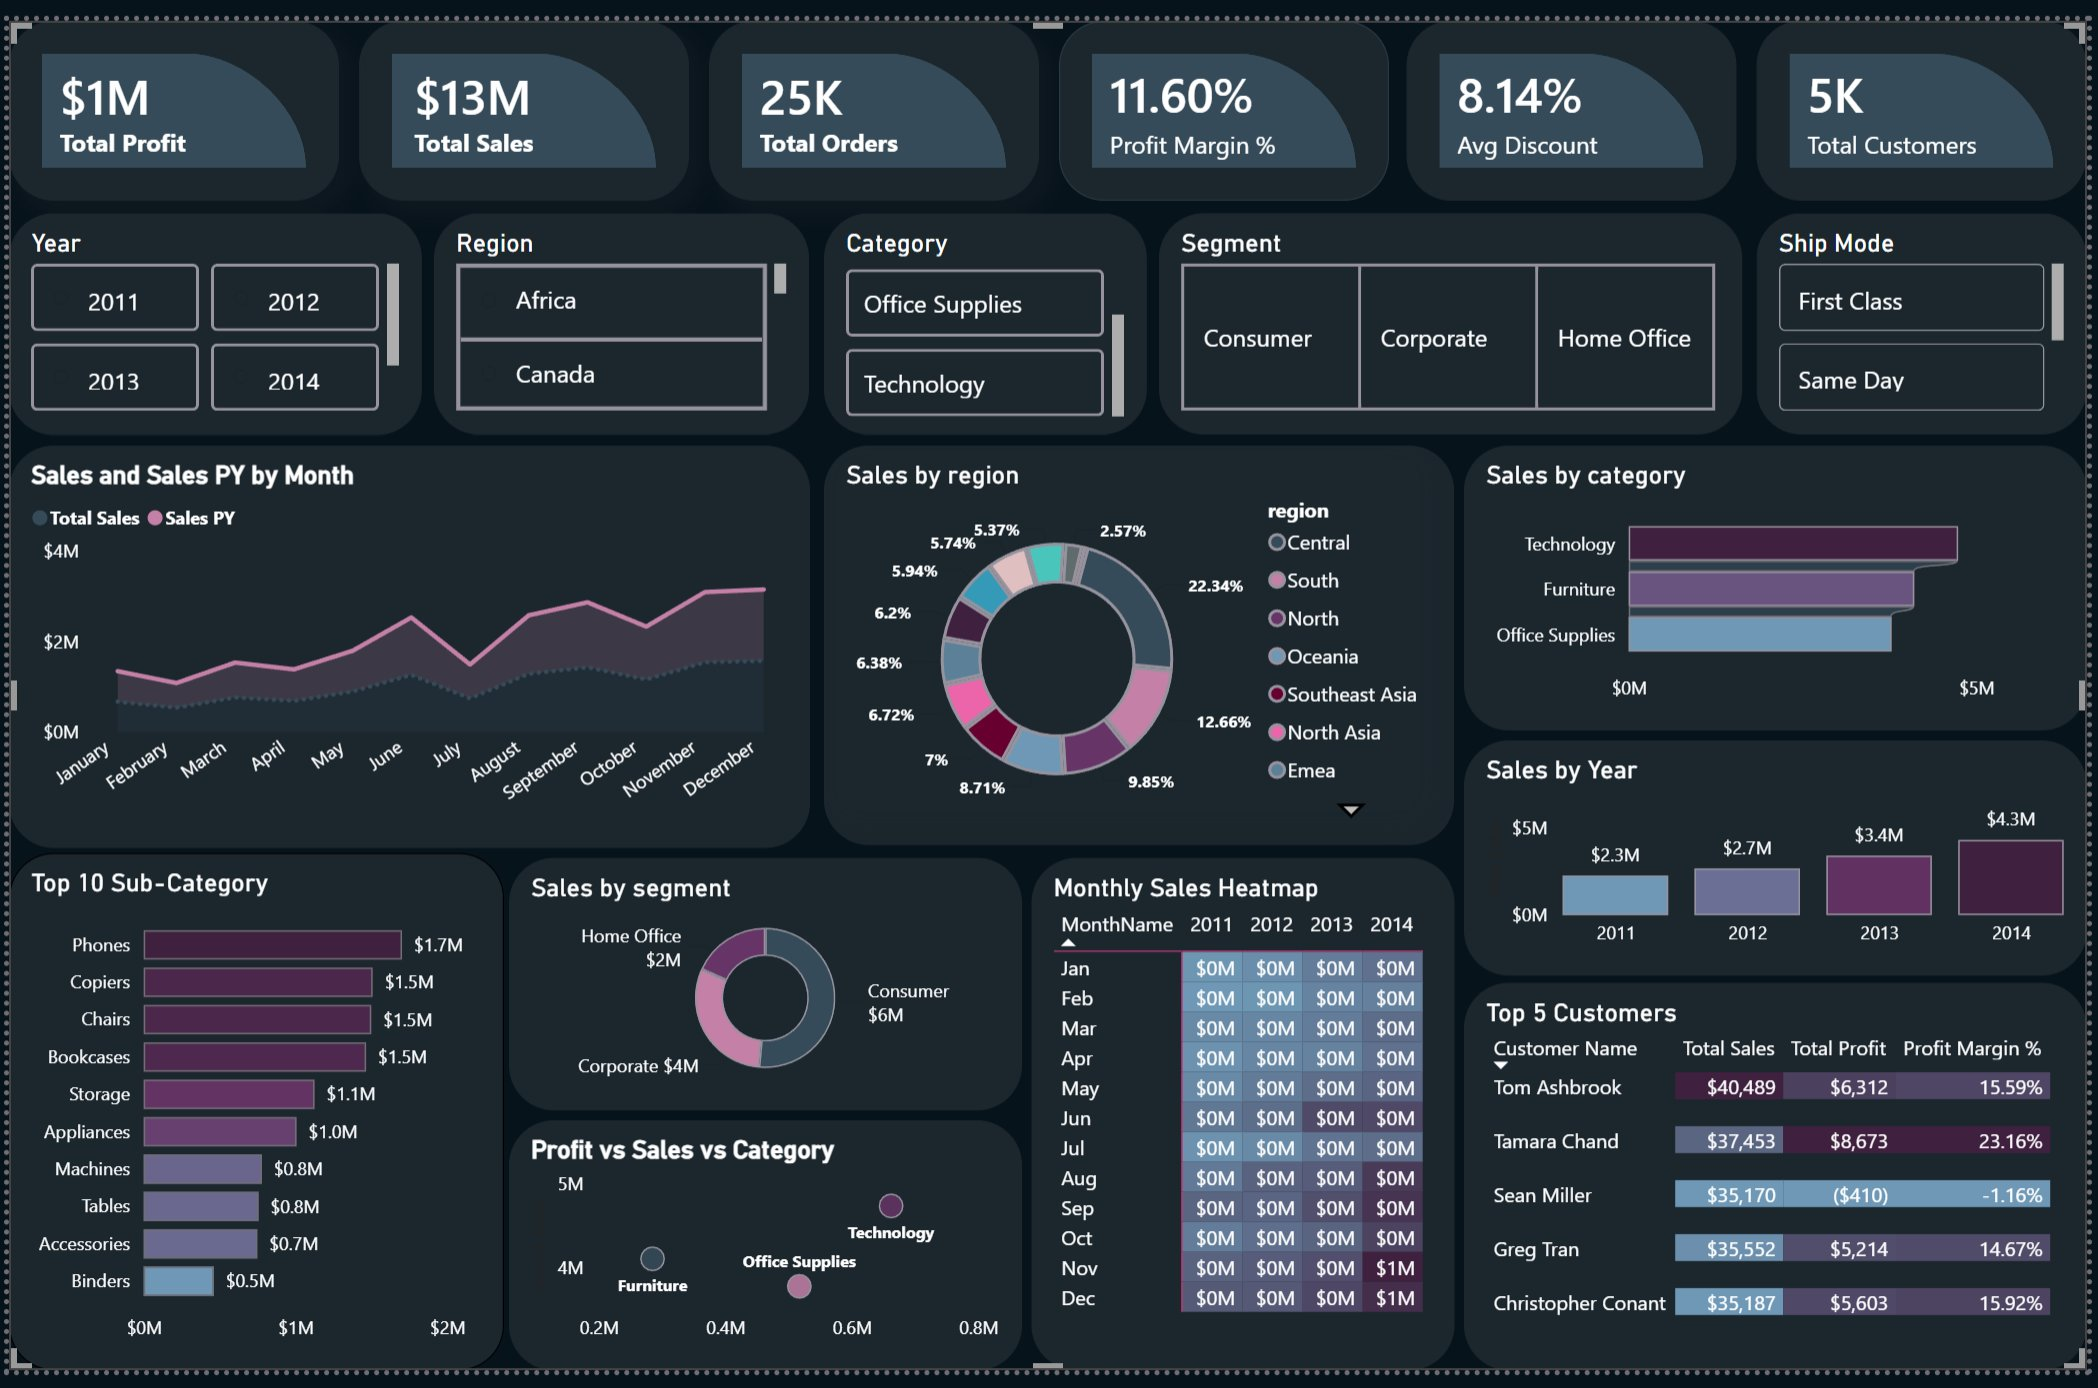

What the dashboard file says about the page in this screenshot:
{"tool":"powerbi","page":{"name":"DASHBOARD","canvas":[1385,900],"ordinal":0},"visuals":[{"type":"cardVisual","fields":{"Data":["fact_sales.Total Sales"]},"box":[233.5,0,220,120],"z":0,"group":"g1"},{"type":"cardVisual","fields":{"Data":["fact_sales.Total Profit"]},"box":[0.7,0.7,220,120],"z":1000,"group":"g1"},{"type":"donutChart","title":"Sales by region","fields":{"Category":["fact_sales.region"],"Y":["fact_sales.Total Sales"]},"box":[543.8,283.8,420,266.2],"z":1000,"group":"g1"},{"type":"cardVisual","fields":{"Data":["fact_sales.Total Orders"]},"box":[466.4,0,220,120],"z":2000,"group":"g1"},{"type":"actionButton","box":[0,155.7,100,40],"z":3000,"group":"g1"},{"type":"barChart","title":"Sales by category","fields":{"Category":["fact_sales.category"],"Y":["fact_sales.Total Sales"]},"box":[970,283.8,415,190],"z":3000,"group":"g1"},{"type":"cardVisual","fields":{"Data":["fact_sales.Profit Margin %"]},"box":[699.3,0,220,120],"z":4000,"group":"g1"},{"type":"advancedSlicerVisual","fields":{"Values":["dim_date.Year"]},"box":[0,129,275,148],"z":5000,"group":"g1"},{"type":"donutChart","title":"Sales by segment","fields":{"Category":["fact_sales.segment"],"Y":["fact_sales.Total Sales"]},"box":[333.3,557.7,342,168.3],"z":5000,"group":"g1"},{"type":"cardVisual","fields":{"Data":["fact_sales.Avg Discount"]},"box":[932.1,0,220,120],"z":6000,"group":"g1"},{"type":"pivotTable","title":"Top 5 Customers","fields":{"Rows":["fact_sales.customer_name"],"Values":["fact_sales.Total Sales","fact_sales.Total Profit","fact_sales.Profit Margin %"]},"box":[970,641,415,258.3],"z":6000,"group":"g1"},{"type":"cardVisual","fields":{"Data":["fact_sales.Total Customers"]},"box":[1165,0,220,120],"z":7000,"group":"g1"},{"type":"stackedAreaChart","title":"Sales and Sales PY by Month","fields":{"Category":["dim_date.Date.Variation.Date Hierarchy.Month"],"Y":["fact_sales.Total Sales","fact_sales.Sales PY"]},"box":[0,282.5,534,268.3],"z":7000,"group":"g1"},{"type":"advancedSlicerVisual","title":"Region","fields":{"Values":["fact_sales.region"]},"box":[284.1,128.8,250,147.5],"z":9000,"group":"g1"},{"type":"scatterChart","title":"Profit vs Sales vs Category","fields":{"Category":["fact_sales.category"],"X":["Sum(fact_sales.profit)"],"Y":["Sum(fact_sales.sales)"]},"box":[333.3,732.7,342,166.7],"z":9000,"group":"g1"},{"type":"advancedSlicerVisual","title":"Category","fields":{"Values":["fact_sales.category"]},"box":[543.1,128.8,215,147.5],"z":9001,"group":"g1"},{"type":"advancedSlicerVisual","title":"Segment","fields":{"Values":["fact_sales.segment"]},"box":[767.2,128.8,388.8,147.5],"z":9002,"group":"g1"},{"type":"advancedSlicerVisual","title":"Ship Mode","fields":{"Values":["fact_sales.ship_mode"]},"box":[1165,128.8,220,147.5],"z":9003,"group":"g1"},{"type":"clusteredColumnChart","title":"Sales by Year","fields":{"Category":["dim_date.Year"],"Y":["fact_sales.Total Sales"]},"box":[970,479.4,415,156.7],"z":10000,"group":"g1"},{"type":"pivotTable","title":"Monthly Sales Heatmap","fields":{"Rows":["dim_date.MonthName"],"Columns":["dim_date.Year"],"Values":["fact_sales.Total Sales"]},"box":[681.7,557.7,282,341.7],"z":11000,"group":"g1"},{"type":"barChart","title":"Top 10 Sub-Category","fields":{"Y":["fact_sales.Total Sales"],"Category":["fact_sales.sub_category"]},"box":[0,554.4,330,345],"z":12000,"group":"g1"},{"type":"group","id":"g1","title":"Group 1","box":[0,0,1385,899.4],"z":12001}]}

Visuals, with their boxes in screenshot pixels (x1, y1, x2, y2), scaled from the page's 1385x900 canvas onto the 2098x1388 screenshot:
cardVisual - fact_sales.Total Sales: x1=354, y1=0, x2=687, y2=185
cardVisual - fact_sales.Total Profit: x1=1, y1=1, x2=334, y2=186
"Sales by region" donutChart: x1=824, y1=438, x2=1460, y2=848
cardVisual - fact_sales.Total Orders: x1=707, y1=0, x2=1040, y2=185
actionButton: x1=0, y1=240, x2=151, y2=302
"Sales by category" barChart: x1=1469, y1=438, x2=2097, y2=731
cardVisual - fact_sales.Profit Margin %: x1=1059, y1=0, x2=1393, y2=185
advancedSlicerVisual - dim_date.Year: x1=0, y1=199, x2=417, y2=427
"Sales by segment" donutChart: x1=505, y1=860, x2=1023, y2=1120
cardVisual - fact_sales.Avg Discount: x1=1412, y1=0, x2=1745, y2=185
"Top 5 Customers" pivotTable: x1=1469, y1=989, x2=2097, y2=1387
cardVisual - fact_sales.Total Customers: x1=1765, y1=0, x2=2097, y2=185
"Sales and Sales PY by Month" stackedAreaChart: x1=0, y1=436, x2=809, y2=849
"Region" advancedSlicerVisual: x1=430, y1=199, x2=809, y2=426
"Profit vs Sales vs Category" scatterChart: x1=505, y1=1130, x2=1023, y2=1387
"Category" advancedSlicerVisual: x1=823, y1=199, x2=1148, y2=426
"Segment" advancedSlicerVisual: x1=1162, y1=199, x2=1751, y2=426
"Ship Mode" advancedSlicerVisual: x1=1765, y1=199, x2=2097, y2=426
"Sales by Year" clusteredColumnChart: x1=1469, y1=739, x2=2097, y2=981
"Monthly Sales Heatmap" pivotTable: x1=1033, y1=860, x2=1460, y2=1387
"Top 10 Sub-Category" barChart: x1=0, y1=855, x2=500, y2=1387
"Group 1" group: x1=0, y1=0, x2=2097, y2=1387
